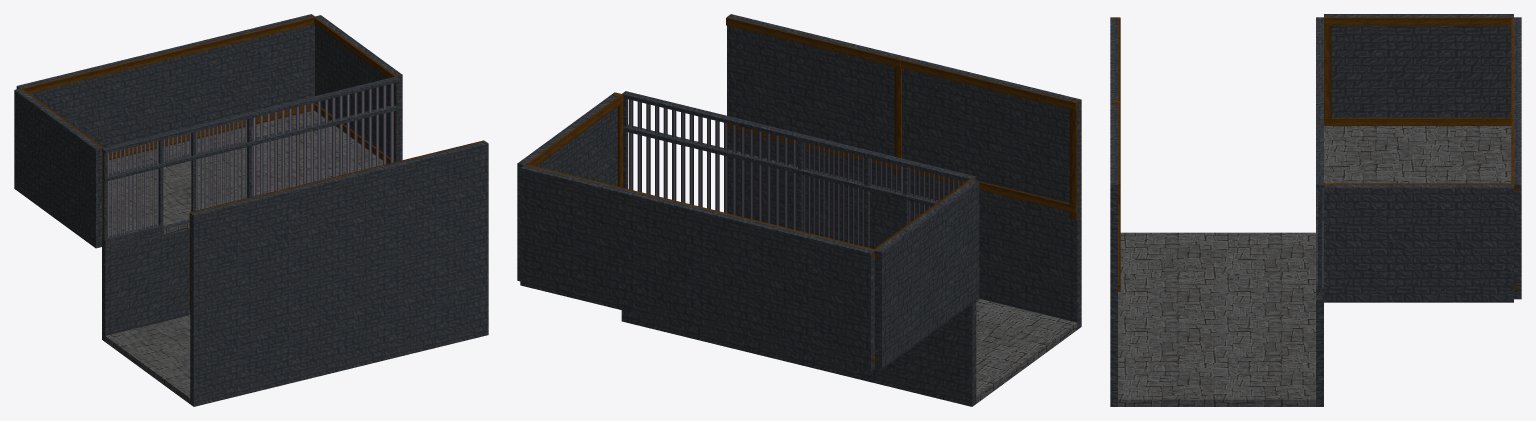
File: Flur Gefaengnis Schlucht V3.fbx
The picture shows the model from 3 angles, left to right: view 1: azimuth 30°, elevation 25°; view 2: azimuth 150°, elevation 25°; view 3: azimuth 270°, elevation 25°; orthographic projection. The views are drawn at different scales.
Parts seen in each view (by area): view 1: Flur Gefängnis Schlucht V3.008, Flur Gefängnis Schlucht V3.006, Flur Gefängnis Schlucht V3.009, Flur Gefängnis Schlucht V3.007, Flur Gefängnis Schlucht V3.013, Flur Gefängnis Schlucht V3.011, Flur Gefängnis Schlucht V3.015, Flur Gefängnis Schlucht V3.012, Flur Gefängnis Schlucht V3.010, Flur Gefängnis Schlucht V3.004, Flur Gefängnis Schlucht V3.014, Flur Gefängnis Schlucht V3.002 (+2 smaller); view 2: Flur Gefängnis Schlucht V3.012, Flur Gefängnis Schlucht V3.013, Flur Gefängnis Schlucht V3.008, Flur Gefängnis Schlucht V3.009, Flur Gefängnis Schlucht V3.015, Flur Gefängnis Schlucht V3.006, Flur Gefängnis Schlucht V3.010, Flur Gefängnis Schlucht V3.011, Flur Gefängnis Schlucht V3.007, Flur Gefängnis Schlucht V3.004, Flur Gefängnis Schlucht V3.014, Flur Gefängnis Schlucht V3.001 (+1 smaller); view 3: Flur Gefängnis Schlucht V3.014, Flur Gefängnis Schlucht V3.015, Flur Gefängnis Schlucht V3, Flur Gefängnis Schlucht V3.001, Flur Gefängnis Schlucht V3.003, Flur Gefängnis Schlucht V3.009, Flur Gefängnis Schlucht V3.013, Flur Gefängnis Schlucht V3.010, Flur Gefängnis Schlucht V3.008, Flur Gefängnis Schlucht V3.012, Flur Gefängnis Schlucht V3.007, Flur Gefängnis Schlucht V3.005 (+1 smaller).
Boxes of the visible parts, left/top/right/bottom form: Flur Gefängnis Schlucht V3.008: left=189, top=176, right=341, bottom=313; Flur Gefängnis Schlucht V3.006: left=190, top=272, right=341, bottom=406; Flur Gefängnis Schlucht V3.009: left=337, top=140, right=488, bottom=272; Flur Gefängnis Schlucht V3.007: left=341, top=237, right=488, bottom=370; Flur Gefängnis Schlucht V3.013: left=164, top=14, right=315, bottom=145; Flur Gefängnis Schlucht V3.011: left=102, top=112, right=252, bottom=249; Flur Gefängnis Schlucht V3.015: left=14, top=88, right=103, bottom=248; Flur Gefängnis Schlucht V3.012: left=16, top=50, right=168, bottom=160; Flur Gefängnis Schlucht V3.010: left=250, top=76, right=400, bottom=196; Flur Gefängnis Schlucht V3.004: left=102, top=219, right=190, bottom=341; Flur Gefängnis Schlucht V3.014: left=314, top=15, right=402, bottom=163; Flur Gefängnis Schlucht V3.002: left=170, top=110, right=382, bottom=198; Flur Gefängnis Schlucht V3.012: left=695, top=207, right=875, bottom=370; Flur Gefängnis Schlucht V3.013: left=520, top=164, right=700, bottom=327; Flur Gefängnis Schlucht V3.008: left=901, top=57, right=1081, bottom=220; Flur Gefängnis Schlucht V3.009: left=726, top=14, right=905, bottom=177; Flur Gefängnis Schlucht V3.015: left=874, top=179, right=979, bottom=369; Flur Gefängnis Schlucht V3.006: left=902, top=173, right=1081, bottom=329; Flur Gefängnis Schlucht V3.010: left=622, top=91, right=800, bottom=229; Flur Gefängnis Schlucht V3.011: left=797, top=134, right=976, bottom=247; Flur Gefängnis Schlucht V3.007: left=728, top=128, right=902, bottom=248; Flur Gefängnis Schlucht V3.004: left=797, top=301, right=976, bottom=406; Flur Gefängnis Schlucht V3.014: left=517, top=92, right=623, bottom=281; Flur Gefängnis Schlucht V3.001: left=976, top=298, right=1077, bottom=403; Flur Gefängnis Schlucht V3.014: left=1324, top=183, right=1513, bottom=302; Flur Gefängnis Schlucht V3.015: left=1324, top=14, right=1513, bottom=125; Flur Gefängnis Schlucht V3: left=1118, top=316, right=1315, bottom=406; Flur Gefängnis Schlucht V3.001: left=1118, top=232, right=1315, bottom=316; Flur Gefängnis Schlucht V3.003: left=1324, top=126, right=1511, bottom=183; Flur Gefängnis Schlucht V3.009: left=1110, top=101, right=1120, bottom=299; Flur Gefängnis Schlucht V3.013: left=1511, top=101, right=1521, bottom=299; Flur Gefängnis Schlucht V3.010: left=1316, top=101, right=1323, bottom=299; Flur Gefängnis Schlucht V3.008: left=1110, top=17, right=1120, bottom=201; Flur Gefängnis Schlucht V3.012: left=1511, top=17, right=1521, bottom=100; Flur Gefängnis Schlucht V3.007: left=1110, top=292, right=1117, bottom=406; Flur Gefängnis Schlucht V3.005: left=1316, top=299, right=1323, bottom=406.
Size of the model in its own units: 1040 by 1040 by 620.
Materials: 2 (2 with a texture image).
